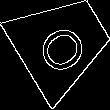O_NE: (31, 11, 94, 75)
